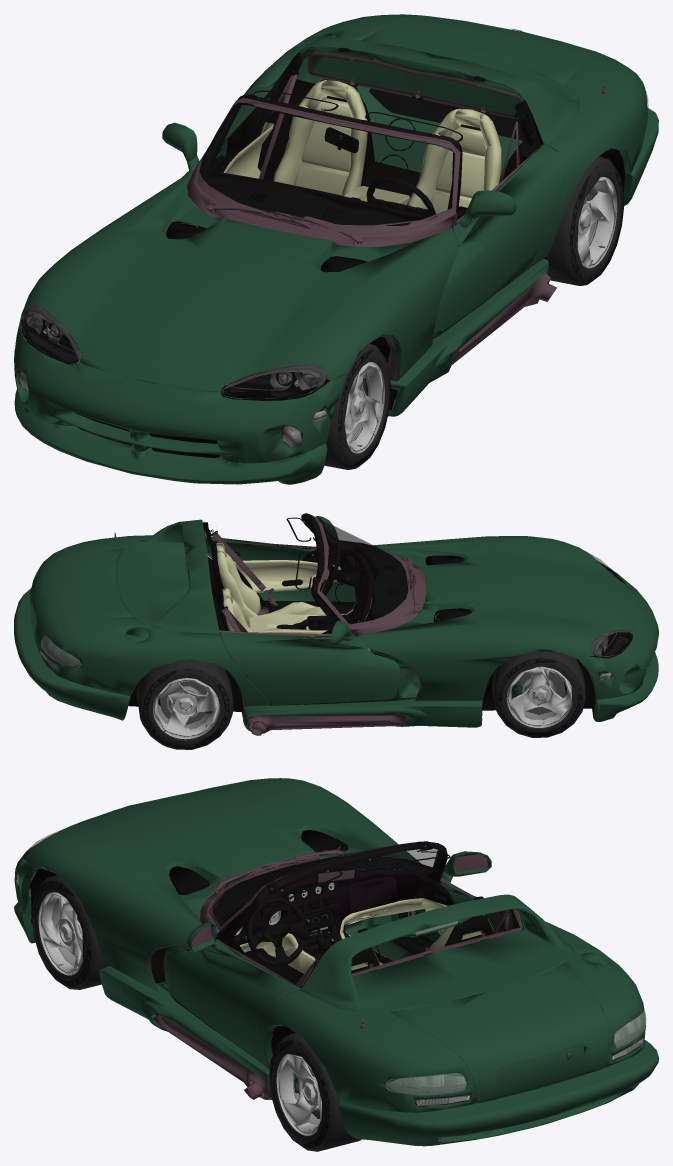
Rendered from roadster.glb.
The picture shows the model from 3 angles, top to bottom: view 1: azimuth 30°, elevation 25°; view 2: azimuth 150°, elevation 25°; view 3: azimuth 270°, elevation 25°; orthographic projection. The views are drawn at different scales.
Parts seen in each view (by area): view 1: Object_667, Object_639, Object_633, Object_617, Object_611, Object_1183, Object_619, Object_623, Object_1137; view 2: Object_667, Object_1183, Object_633, Object_639, Object_617, Object_611, Object_619, Object_623, Object_1137; view 3: Object_667, Object_633, Object_1183, Object_639, Object_617, Object_611, Object_623, Object_619, Object_1137.
Boxes of the visible parts, x1=… form: Object_667: x1=14, y1=14, x2=658, y2=484; Object_639: x1=18, y1=55, x2=648, y2=446; Object_633: x1=199, y1=47, x2=567, y2=338; Object_617: x1=210, y1=80, x2=501, y2=395; Object_611: x1=23, y1=51, x2=606, y2=393; Object_1183: x1=324, y1=156, x2=624, y2=469; Object_619: x1=21, y1=59, x2=624, y2=457; Object_623: x1=14, y1=97, x2=647, y2=446; Object_1137: x1=166, y1=221, x2=367, y2=272; Object_667: x1=14, y1=516, x2=658, y2=730; Object_1183: x1=137, y1=651, x2=585, y2=749; Object_633: x1=53, y1=513, x2=415, y2=705; Object_639: x1=34, y1=518, x2=632, y2=679; Object_617: x1=208, y1=543, x2=522, y2=713; Object_611: x1=114, y1=514, x2=631, y2=735; Object_619: x1=40, y1=528, x2=632, y2=724; Object_623: x1=40, y1=551, x2=632, y2=680; Object_1137: x1=425, y1=555, x2=471, y2=622; Object_667: x1=14, y1=778, x2=658, y2=1146; Object_633: x1=169, y1=841, x2=624, y2=1106; Object_1183: x1=31, y1=875, x2=361, y2=1151; Object_639: x1=16, y1=829, x2=645, y2=1106; Object_617: x1=226, y1=868, x2=493, y2=1094; Object_611: x1=148, y1=833, x2=572, y2=1099; Object_623: x1=16, y1=838, x2=645, y2=1105; Object_619: x1=23, y1=850, x2=639, y2=1142; Object_1137: x1=169, y1=830, x2=348, y2=895.
Size of the model in its own units: 2.56 by 0.6832 by 2.12.
10 materials, 10 textured.
